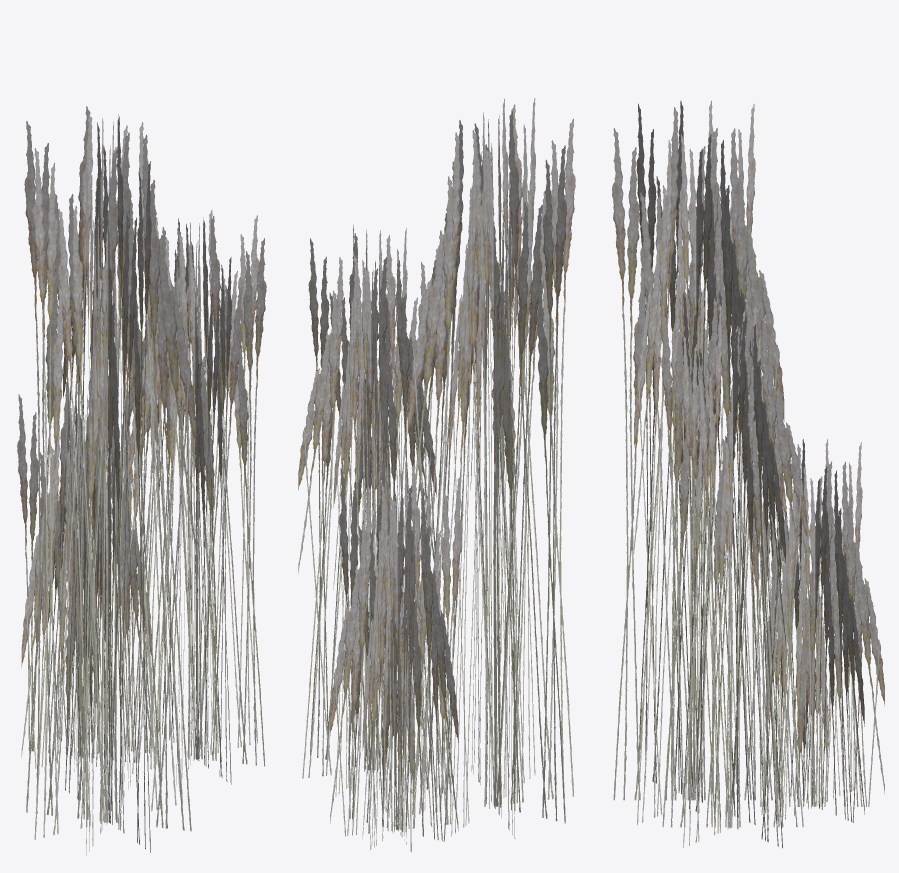
Rendered from WaterGrass_01.obj.
The picture shows the model from 3 angles, left to right: view 1: azimuth 30°, elevation 25°; view 2: azimuth 150°, elevation 25°; view 3: azimuth 270°, elevation 25°; orthographic projection. The views are drawn at different scales.
Visible parts, largest first — view 1: polySurface7; view 2: polySurface7; view 3: polySurface7.
Part boxes in pixels (x1=…): polySurface7: x1=17, y1=106, x2=266, y2=855; polySurface7: x1=298, y1=98, x2=575, y2=852; polySurface7: x1=612, y1=100, x2=884, y2=848.
Bounding box in the file's own units: 11.83 × 34.7 × 11.63.
Materials: 1 (1 with a texture image).
